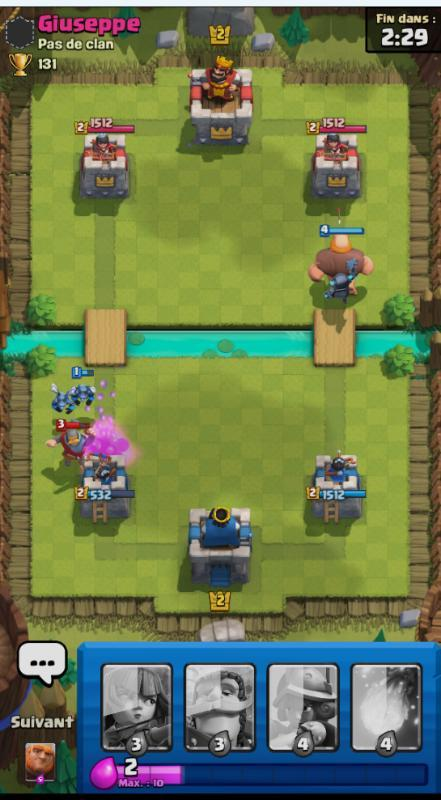enemy_knight: (47, 418, 99, 464)
player_giant: (305, 226, 377, 285)
player_mini_pekka: (322, 259, 361, 308)
player_minions: (48, 386, 78, 415), (68, 381, 98, 407)
